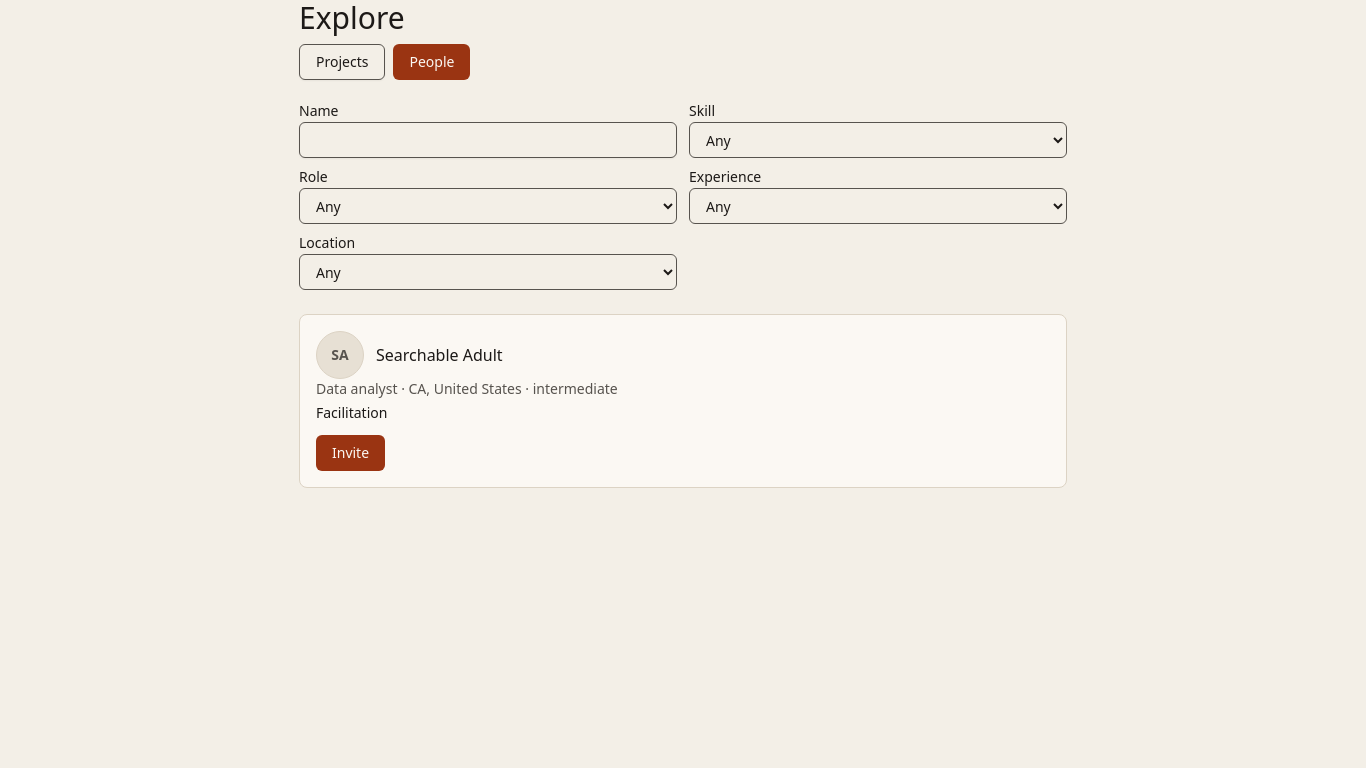
Test case: ExplorePage › confirms an invitation when one eligible project exists
Click the button "Invite": [351, 453] box x1=316 y1=435 x2=385 y2=471
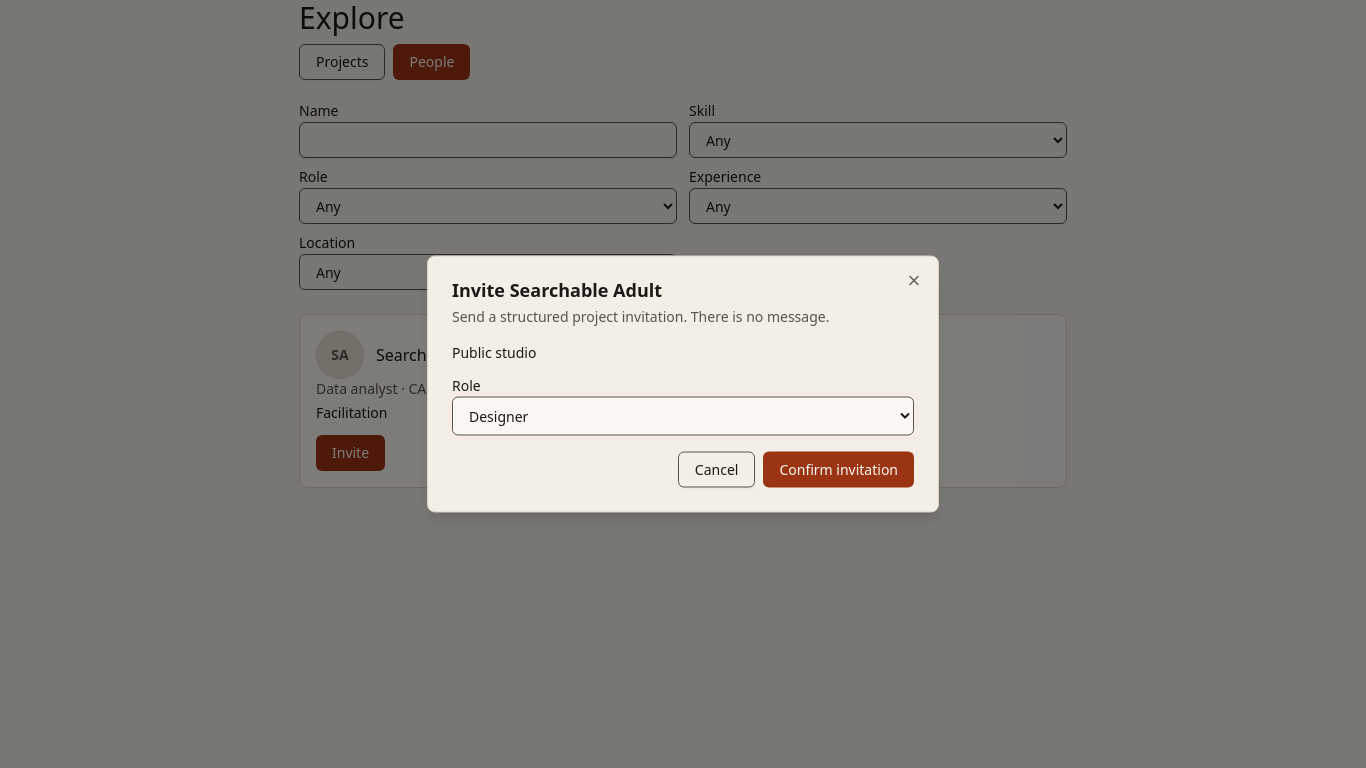
Click the button "Confirm invitation": [839, 470] box x1=763 y1=452 x2=914 y2=488
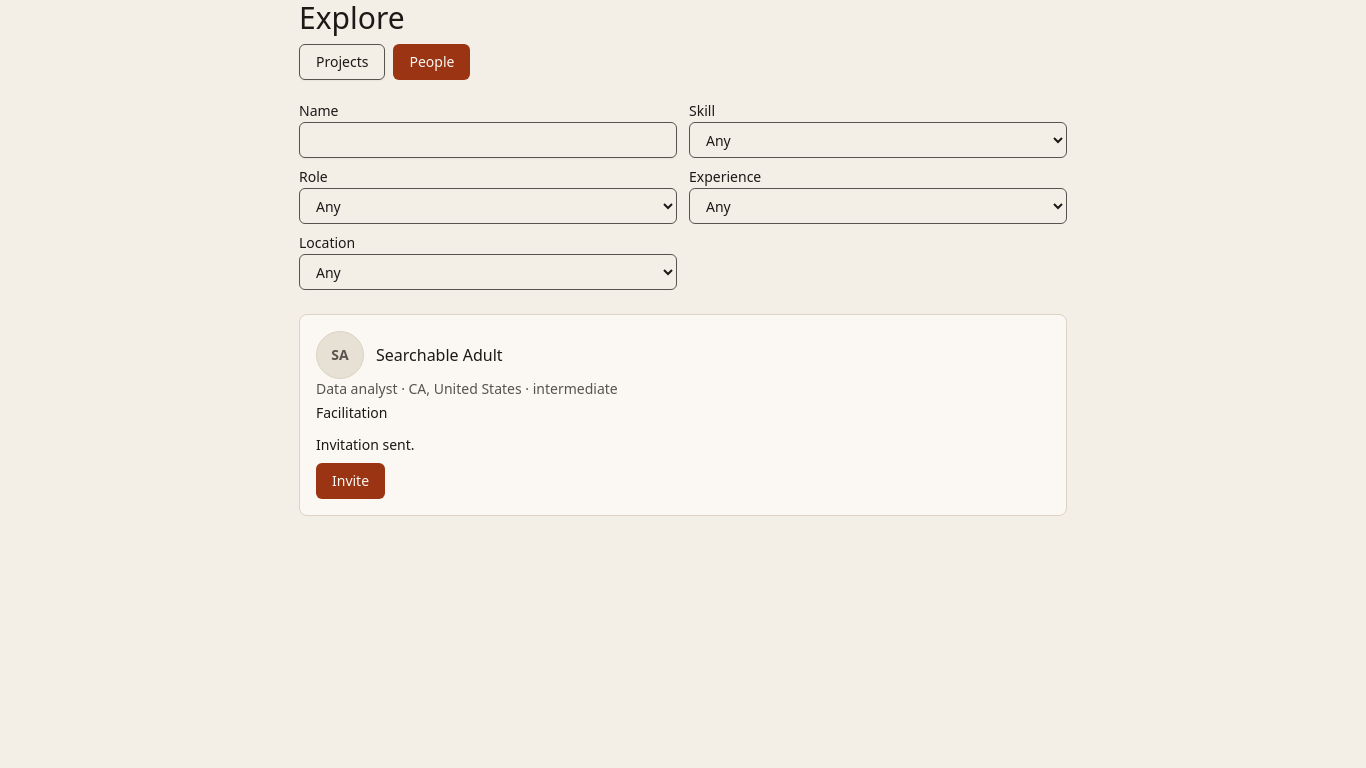
Now the text "Invitation sent." is shown, box x1=316 y1=435 x2=414 y2=454
